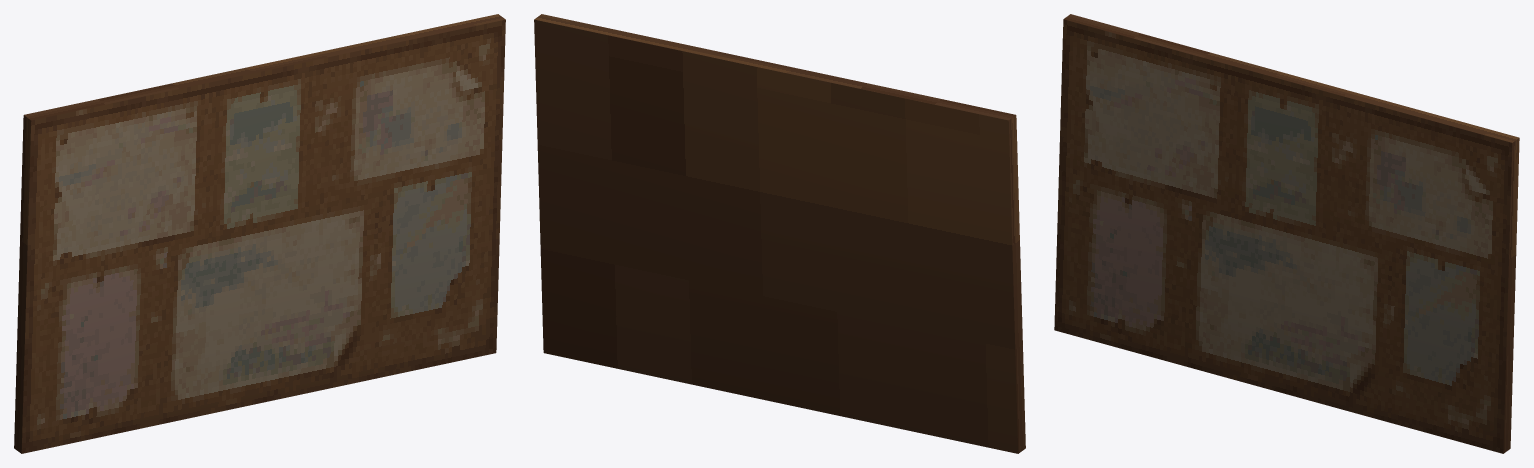
Rendered from prop_notice_board-1.glb.
3 views of the same model, side by side, from view 1: azimuth 30°, elevation 25°; view 2: azimuth 150°, elevation 25°; view 3: azimuth 330°, elevation 25° (orthographic). The views are drawn at different scales.
Visible parts, largest first — view 1: prop_notice_board-1; view 2: prop_notice_board-1; view 3: prop_notice_board-1.
Boxes of the visible parts, x1,y1,x2,y2 form: prop_notice_board-1: (14,14,505,453); prop_notice_board-1: (534,14,1025,453); prop_notice_board-1: (1054,14,1519,453).
Bounding box in the file's own units: 0.9176 × 0.6267 × 0.025.
1 material, 1 textured.
